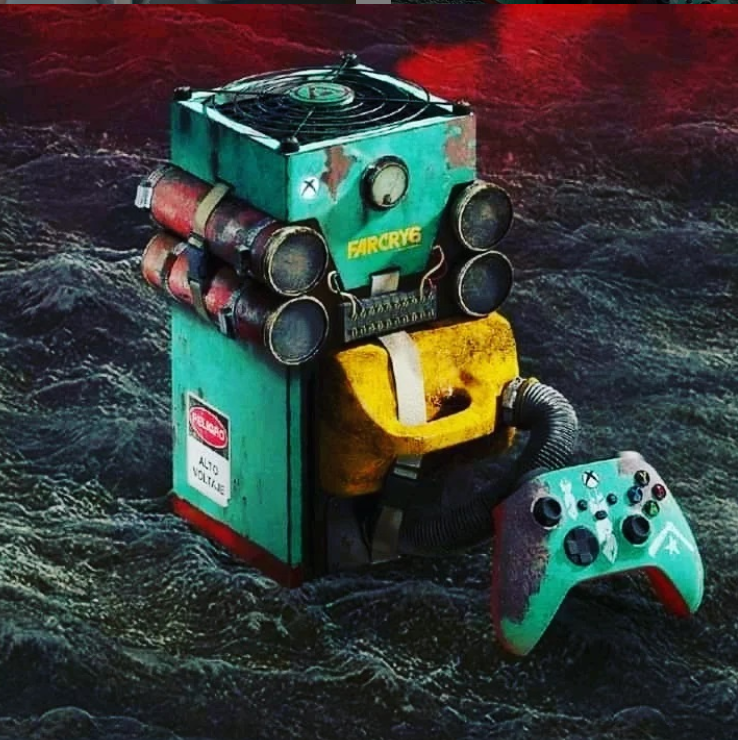gamingconsole: (488, 452, 703, 643)
